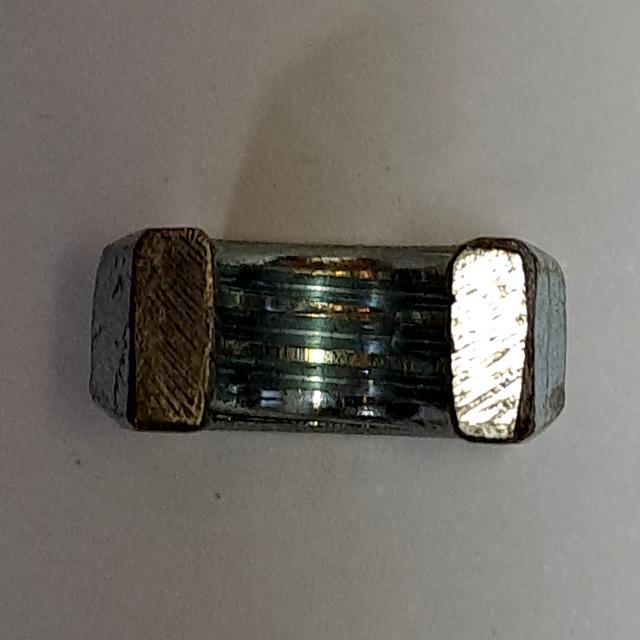Side-Fracture: (76, 215, 592, 466)
